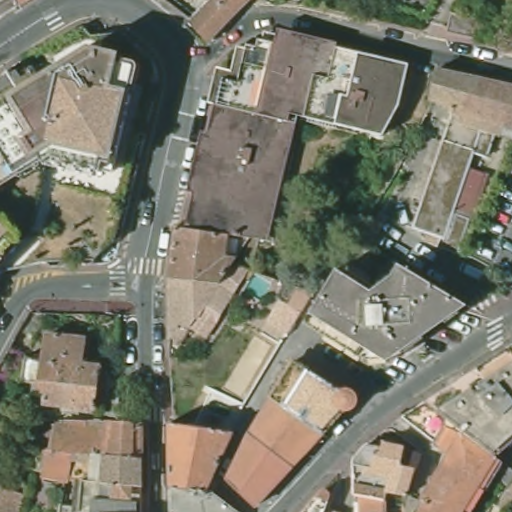pool: (236, 272, 276, 304)
